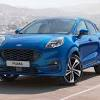Ford: (1, 16, 100, 85)
